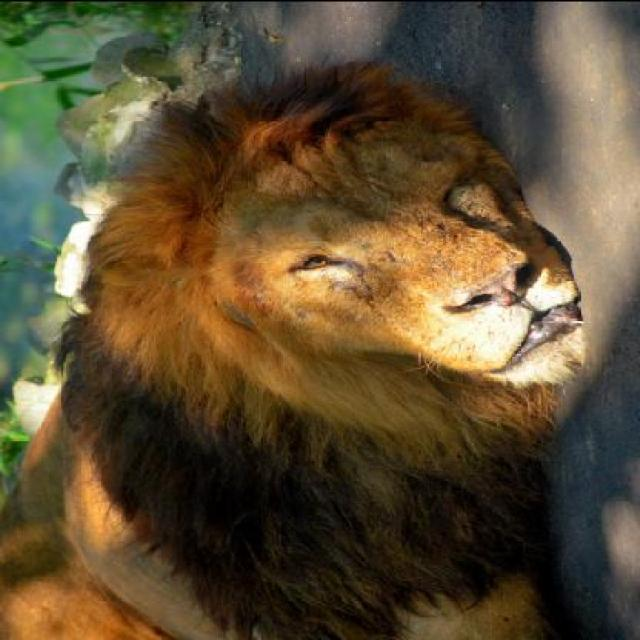Lion: (9, 60, 638, 638)
